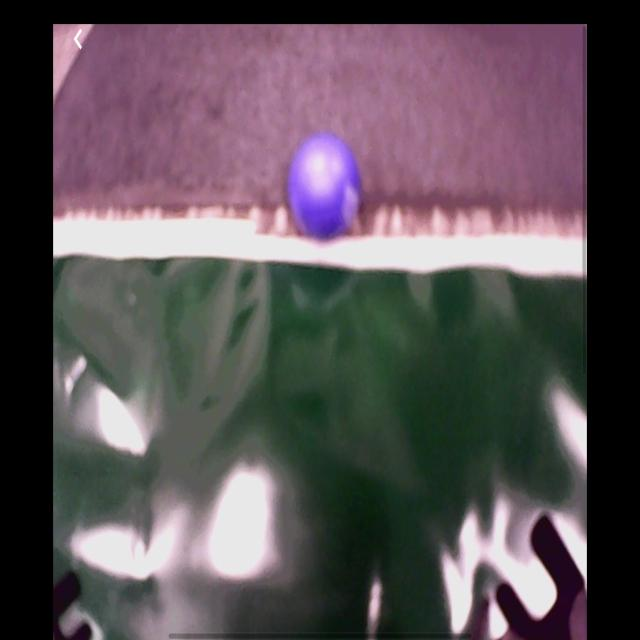ball: (289, 132, 364, 240)
